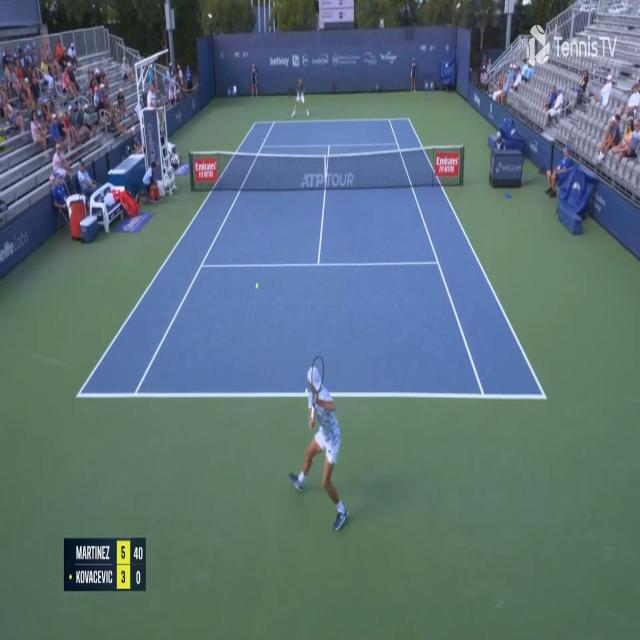tennis-player: (286, 352, 356, 539), (288, 76, 312, 120)
